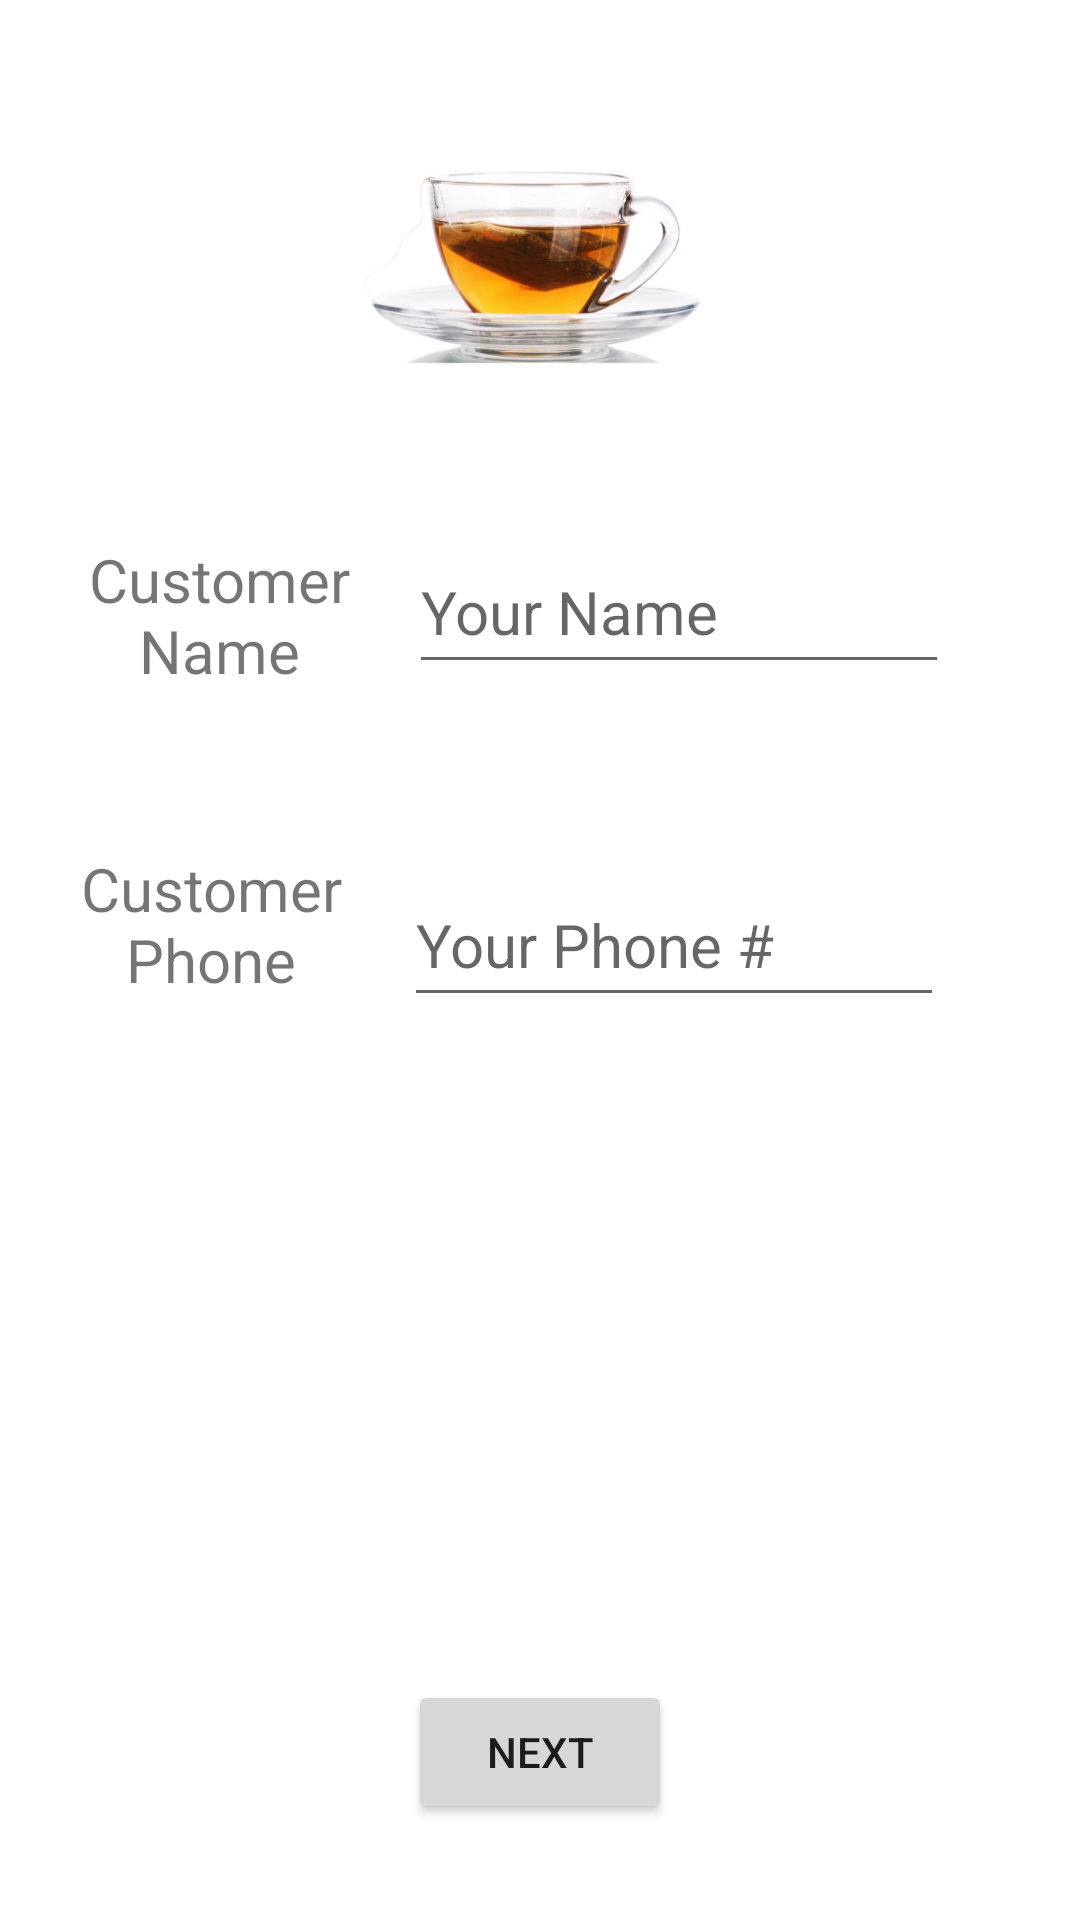

Icons on this 1080 x 1920 Android screen, each with the point to tap as (x=x, y=y):
tea: (x=535, y=267)
